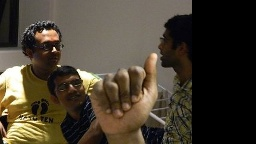Pugno: (82, 49, 163, 140)
